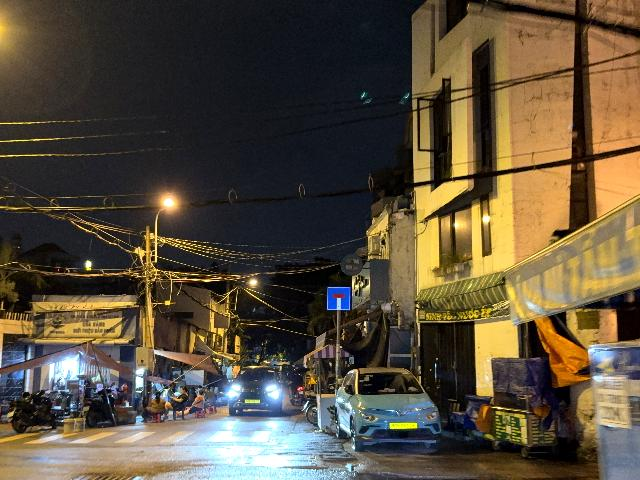duong-cut: (327, 287, 350, 310)
